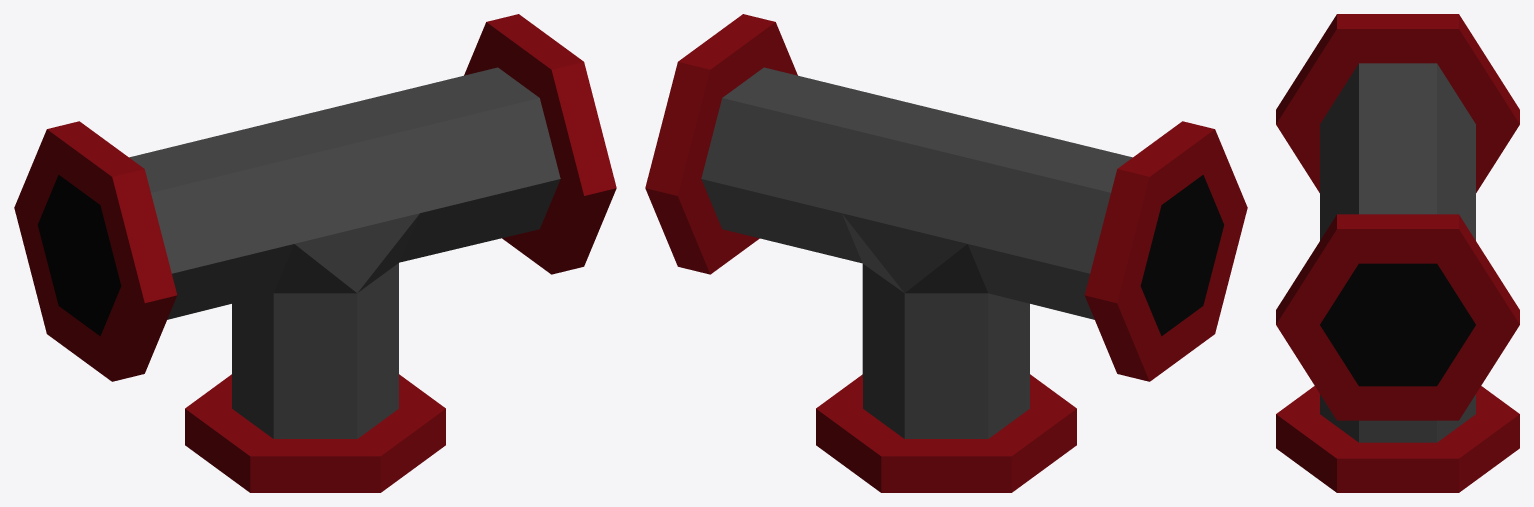
Rendered from trubaT.fbx.
3 renders of one model, left to right at view 1: azimuth 30°, elevation 25°; view 2: azimuth 150°, elevation 25°; view 3: azimuth 270°, elevation 25°, orthographic. The views are drawn at different scales.
Parts seen in each view (by area): view 1: Cylinder.001; view 2: Cylinder.001; view 3: Cylinder.001.
Part boxes in pixels (left/top/right/bottom): Cylinder.001: left=14, top=14, right=616, bottom=492; Cylinder.001: left=645, top=14, right=1247, bottom=492; Cylinder.001: left=1276, top=14, right=1519, bottom=492.
Bounding box in the file's own units: 200 × 142 × 95.83.
